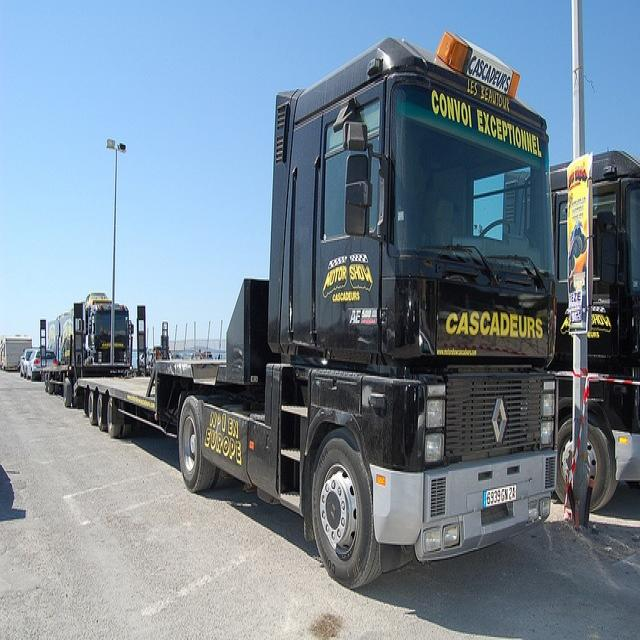bus: (45, 297, 128, 361)
car: (24, 346, 56, 379), (18, 344, 37, 376), (83, 290, 110, 306)
pole: (565, 0, 593, 524)
truck: (75, 27, 558, 587), (549, 144, 639, 516), (47, 290, 132, 362)
